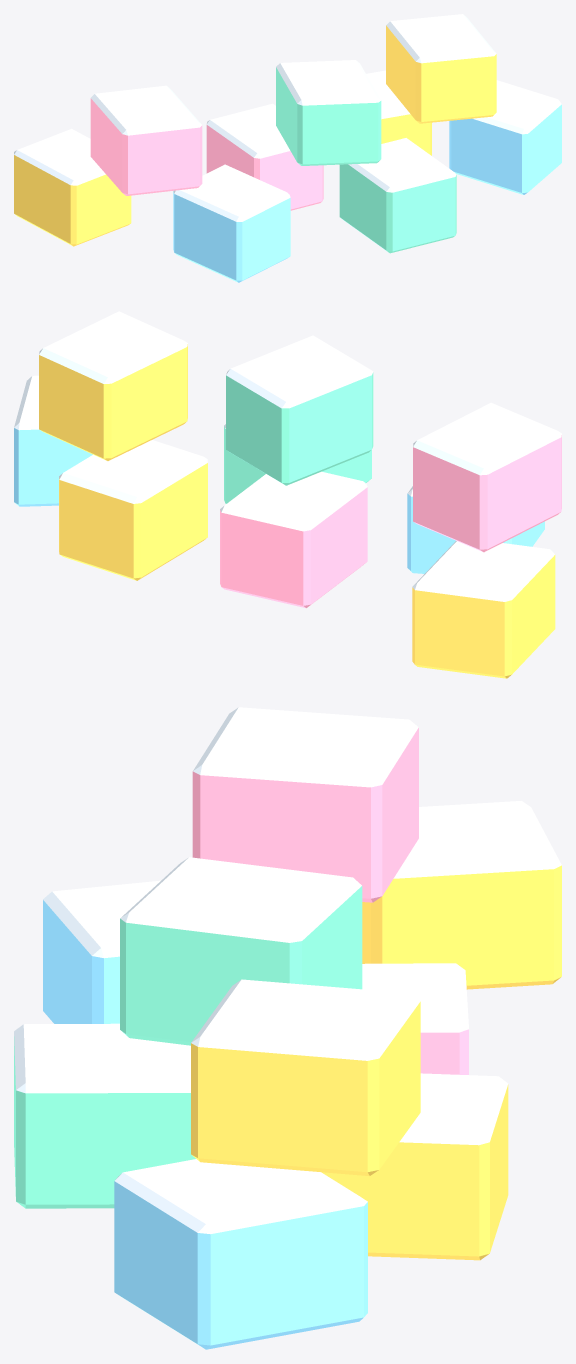
The model's file is toy-blocks-loose.glb.
3 renders of one model, top to bottom at view 1: azimuth 30°, elevation 25°; view 2: azimuth 150°, elevation 25°; view 3: azimuth 270°, elevation 25°, orthographic. The views are drawn at different scales.
Parts seen in each view (by area): view 1: toy-blocks-loose; view 2: toy-blocks-loose; view 3: toy-blocks-loose.
Boxes of the visible parts, bbox=[...] form: toy-blocks-loose: bbox=[14, 14, 561, 282]; toy-blocks-loose: bbox=[14, 311, 561, 678]; toy-blocks-loose: bbox=[14, 707, 561, 1349].
Bounding box in the file's own units: 8.29 × 2.26 × 4.47.
